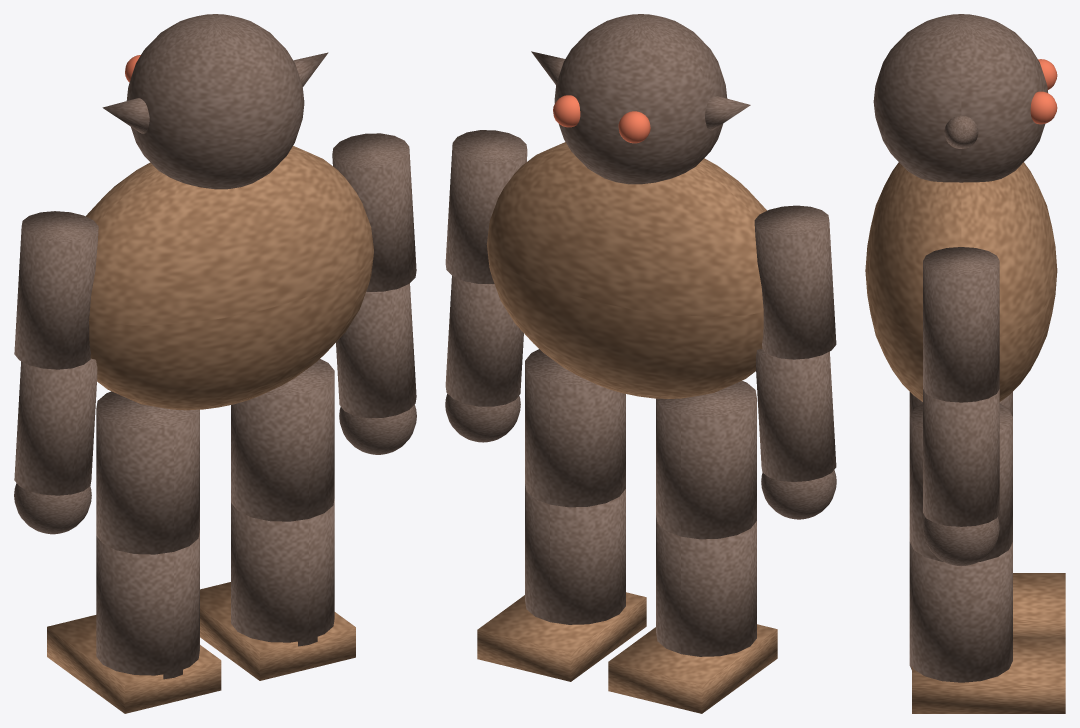
Rendered from spriggan.glb.
The picture shows the model from 3 angles, left to right: view 1: azimuth 30°, elevation 25°; view 2: azimuth 150°, elevation 25°; view 3: azimuth 270°, elevation 25°; orthographic projection. The views are drawn at different scales.
Parts seen in each view (by area): view 1: Torso, Head, ThighL, ThighR, ShinR, ShinL, UpperArmL, ForearmL, ForearmR, UpperArmR, FootL, FootR (+3 smaller); view 2: Torso, Head, ThighL, ThighR, ShinL, ShinR, UpperArmL, ForearmL, FootR, FootL, ForearmR, UpperArmR (+5 smaller); view 3: Torso, Head, ShinR, UpperArmR, ForearmR, FootR, ThighR, FootL, HandR, Ear.001, Eye.001, Eye.
Part boxes in pixels (x1,y1,x2,y2): Torso: [85, 146, 373, 410]; Head: [126, 14, 304, 189]; ThighL: [96, 391, 199, 554]; ThighR: [231, 359, 334, 521]; ShinR: [231, 499, 334, 646]; ShinL: [96, 530, 199, 679]; UpperArmL: [14, 211, 98, 369]; ForearmL: [14, 358, 97, 495]; ForearmR: [336, 283, 416, 418]; UpperArmR: [332, 133, 416, 291]; FootL: [47, 615, 221, 713]; FootR: [200, 582, 355, 680]; Torso: [486, 142, 766, 398]; Head: [554, 14, 727, 184]; ThighL: [656, 381, 756, 539]; ThighR: [525, 349, 625, 507]; ShinL: [656, 515, 756, 656]; ShinR: [525, 484, 625, 624]; UpperArmL: [754, 205, 836, 359]; ForearmL: [756, 349, 836, 481]; FootR: [477, 592, 646, 681]; FootL: [608, 624, 777, 713]; ForearmR: [445, 276, 523, 406]; UpperArmR: [445, 130, 527, 283]; Torso: [865, 162, 1057, 401]; Head: [873, 14, 1047, 182]; ShinR: [909, 542, 1012, 682]; UpperArmR: [923, 247, 999, 402]; ForearmR: [923, 389, 999, 526]; FootR: [912, 637, 1065, 713]; ThighR: [909, 403, 1012, 561]; FootL: [1013, 573, 1065, 637]; HandR: [923, 517, 999, 566]; Ear.001: [944, 115, 978, 148]; Eye.001: [1030, 91, 1057, 124]; Eye: [1038, 59, 1057, 89].
Size of the model in its own units: 0.6367 by 1 by 0.2852.
3 materials, 2 textured.
